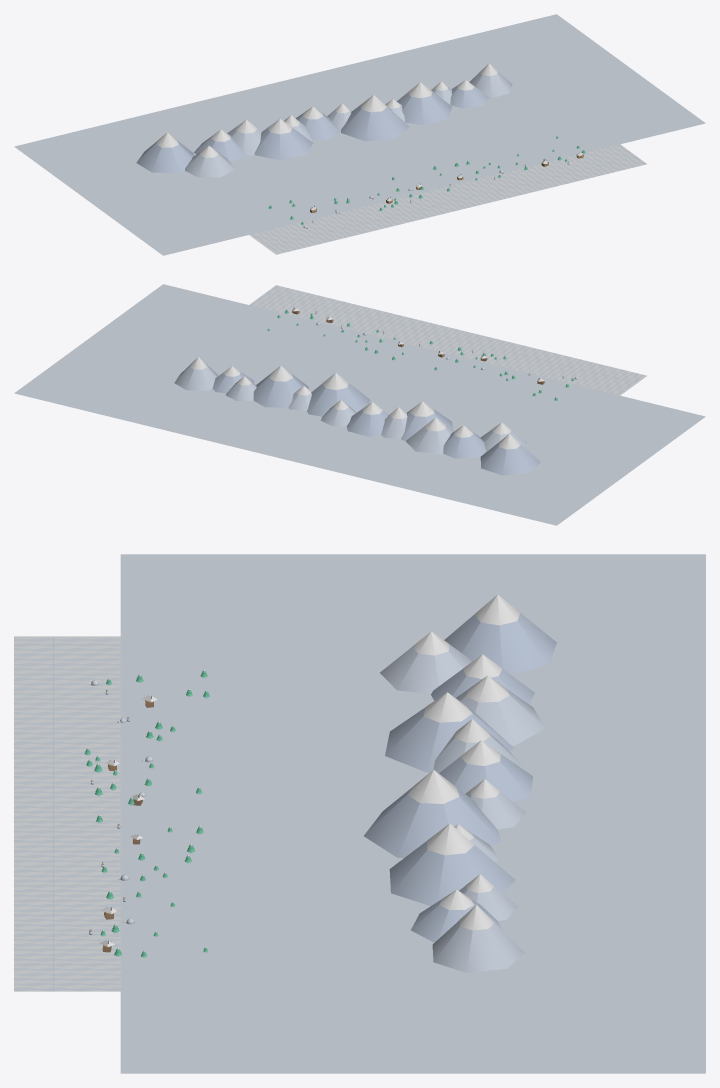
The model's file is snowy-far.glb.
3 views of the same model, one above another, from view 1: azimuth 30°, elevation 25°; view 2: azimuth 150°, elevation 25°; view 3: azimuth 270°, elevation 25° (orthographic). The views are drawn at different scales.
Visible parts, largest first — view 1: snowy-far; view 2: snowy-far; view 3: snowy-far.
Boxes of the visible parts, x1,y1,x2,y2 form: snowy-far: [14, 14, 705, 255]; snowy-far: [14, 284, 705, 525]; snowy-far: [14, 554, 705, 1073].
Size of the model in its own units: 1900 by 109 by 1070.
